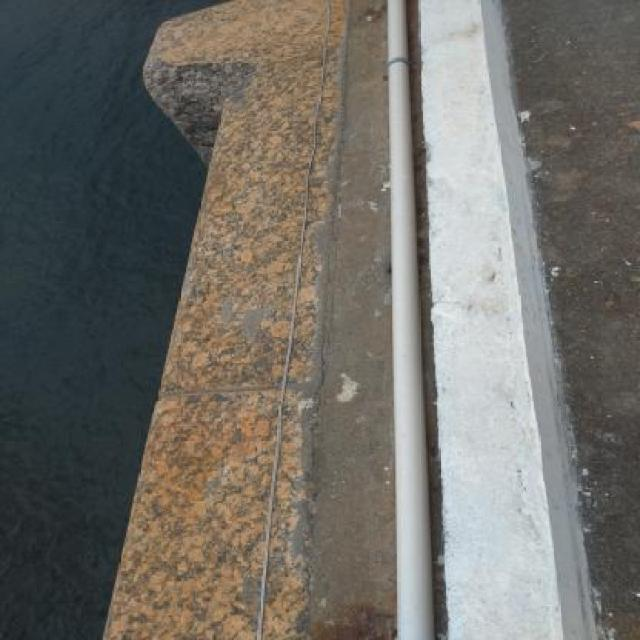gas: (389, 0, 429, 637)
